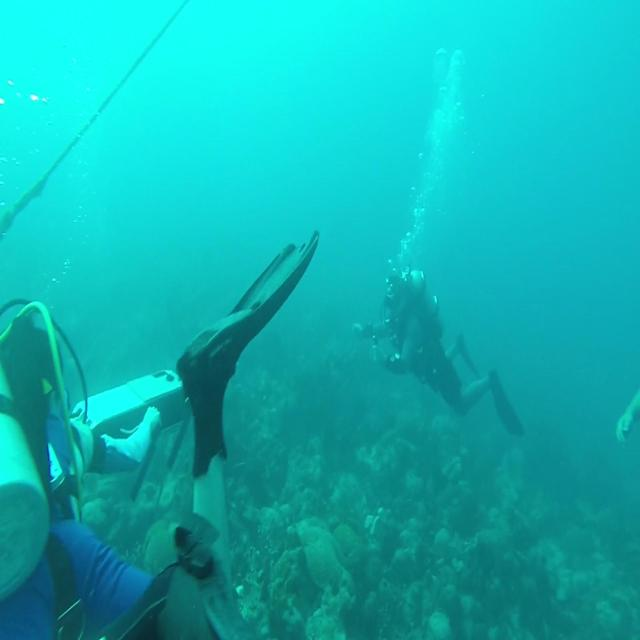human: (0, 298, 217, 638), (352, 264, 525, 438)
